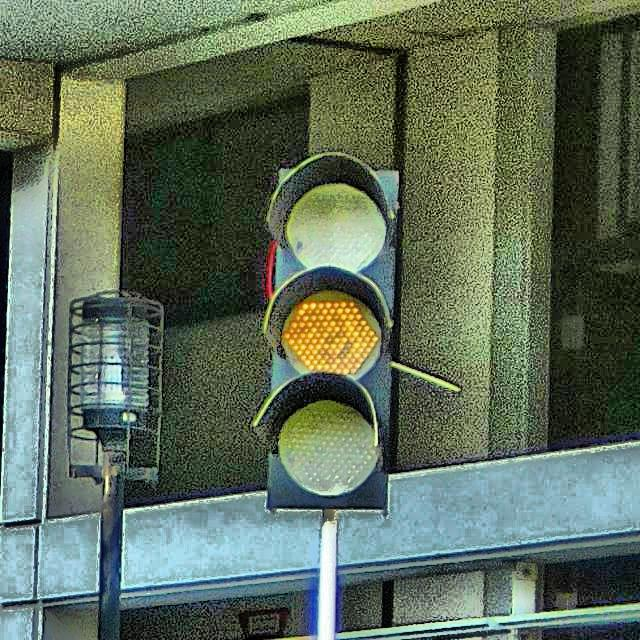yellow: (266, 162, 400, 512)
